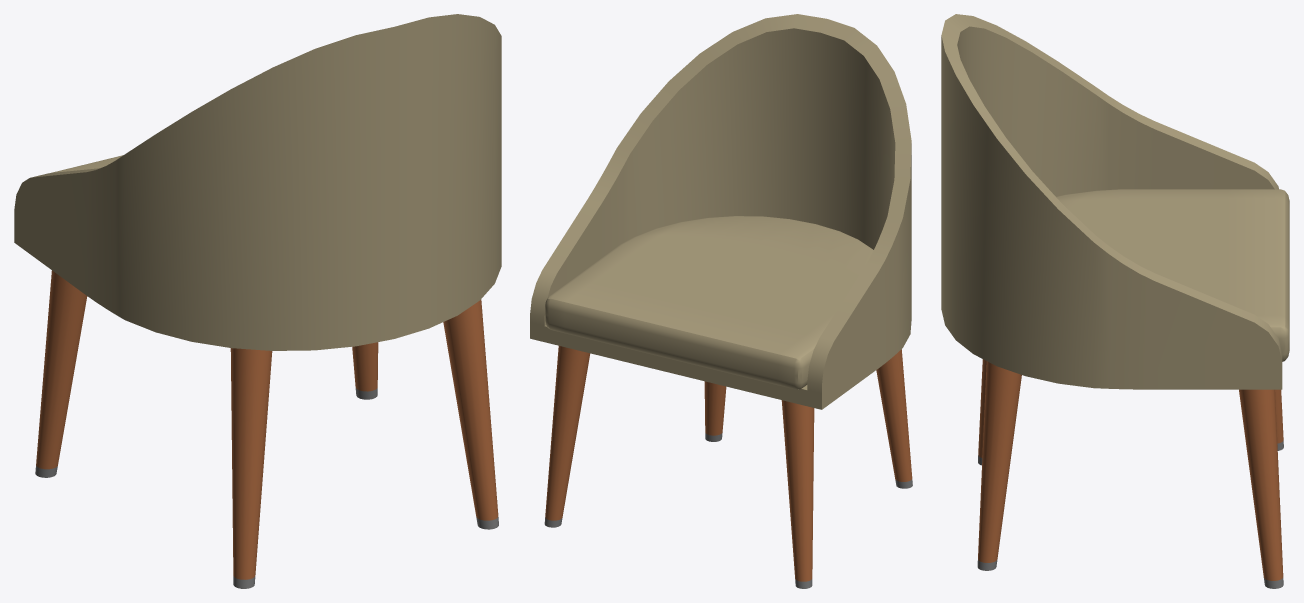
The model's file is Chair_Single_03.glb.
The picture shows the model from 3 angles, left to right: view 1: azimuth 30°, elevation 25°; view 2: azimuth 150°, elevation 25°; view 3: azimuth 270°, elevation 25°; orthographic projection. The views are drawn at different scales.
Parts seen in each view (by area): view 1: Mesh_Chair_Single_03; view 2: Mesh_Chair_Single_03; view 3: Mesh_Chair_Single_03.
Boxes of the visible parts, left/top/right/bottom form: Mesh_Chair_Single_03: left=14, top=14, right=501, bottom=588; Mesh_Chair_Single_03: left=530, top=14, right=912, bottom=588; Mesh_Chair_Single_03: left=941, top=14, right=1289, bottom=588.
Bounding box in the file's own units: 0.5 × 0.7 × 0.4597.
1 material, 1 textured.
